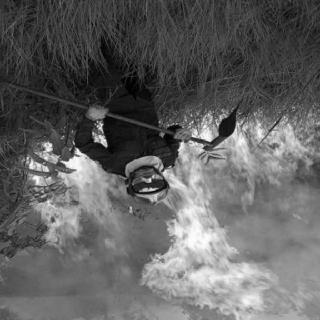Fire: (20, 110, 317, 318)
